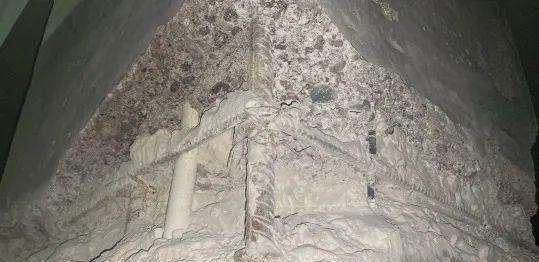Exposed reinforcement: (59, 85, 242, 226), (278, 113, 482, 227), (242, 19, 278, 246), (161, 103, 201, 239), (122, 182, 160, 238), (366, 128, 377, 200)
Spalling: (1, 1, 539, 262)
